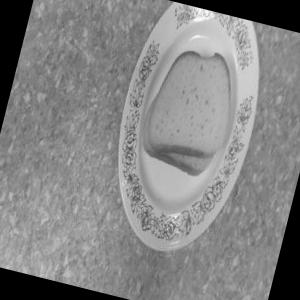bread: (116, 31, 260, 208)
